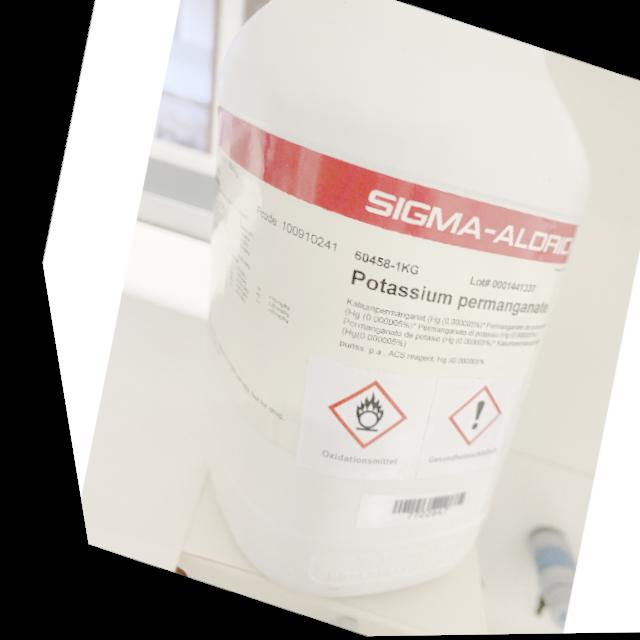health-ozone layer hazard: (450, 399, 478, 435)
oxidising: (331, 388, 380, 438)
